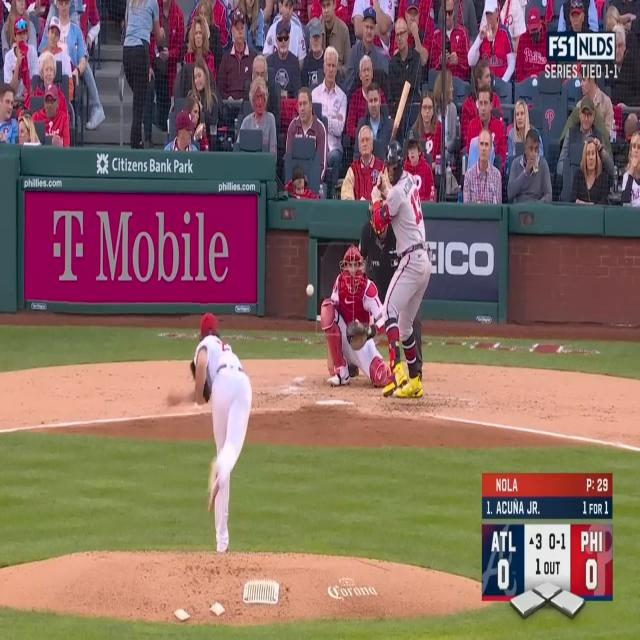baseball: (306, 284, 314, 296)
